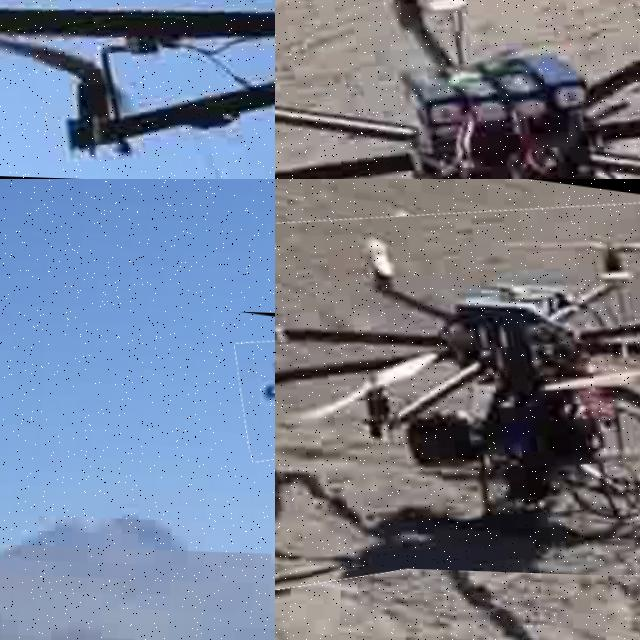drone: (275, 179, 640, 584), (275, 0, 640, 179), (0, 0, 275, 179)
